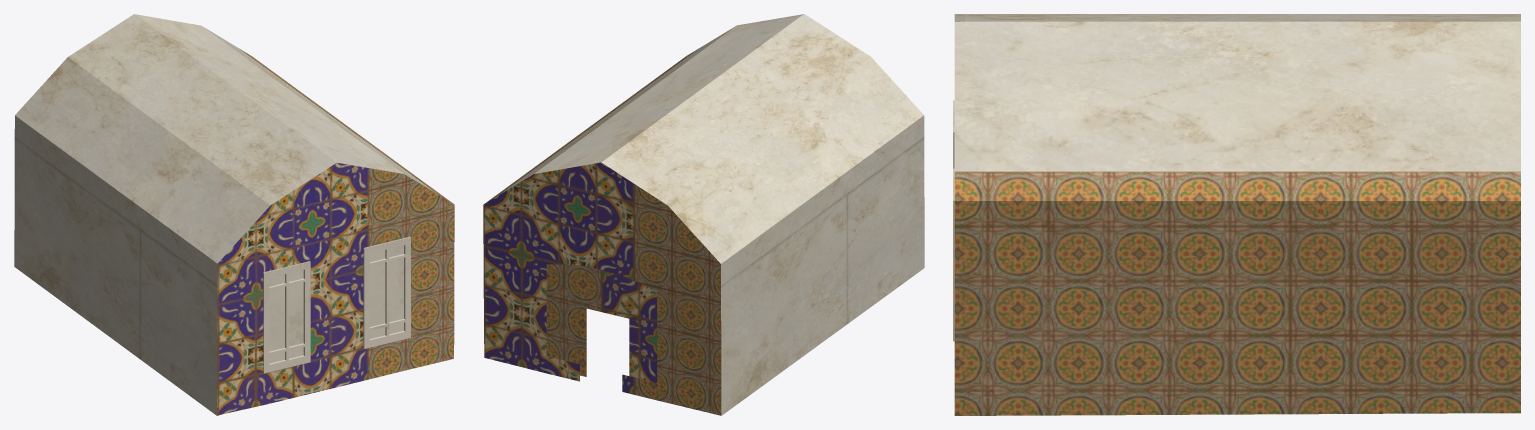
The model's file is kristina-furnished-room.glb.
The picture shows the model from 3 angles, left to right: view 1: azimuth 30°, elevation 25°; view 2: azimuth 150°, elevation 25°; view 3: azimuth 270°, elevation 25°; orthographic projection. The views are drawn at different scales.
Parts seen in each view (by area): view 1: room_new_high, window1_high; view 2: room_new_high; view 3: room_new_high.
Boxes of the visible parts, <box> form: room_new_high: <box>14,14,454,415</box>; window1_high: <box>263,236,410,373</box>; room_new_high: <box>483,14,924,415</box>; room_new_high: <box>954,14,1520,415</box>.
Size of the model in its own units: 0.2525 by 0.2287 by 0.3742.
2 materials, 2 textured.
